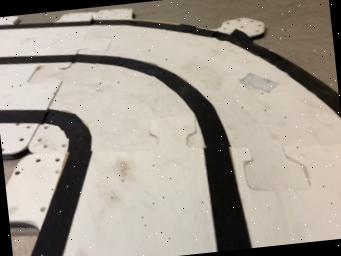street: (0, 20, 341, 256), (0, 20, 341, 256), (0, 20, 341, 256), (0, 20, 341, 256), (0, 20, 341, 256), (0, 20, 341, 256)
